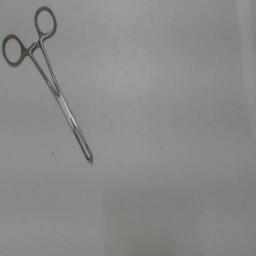Allis Tissue Forceps: (0, 2, 98, 172)
